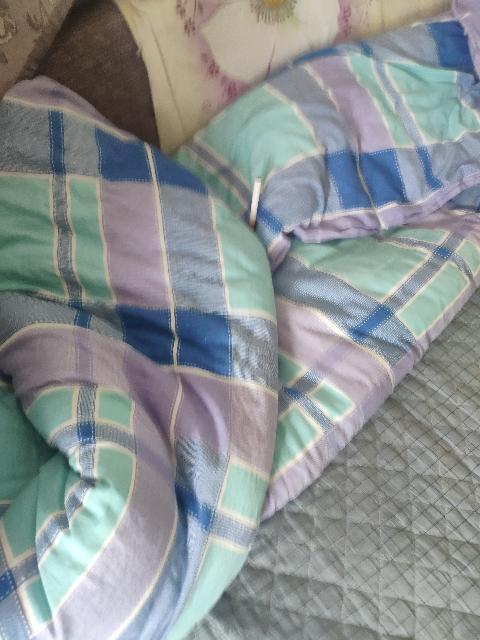Cigarette: (246, 178, 262, 235)
